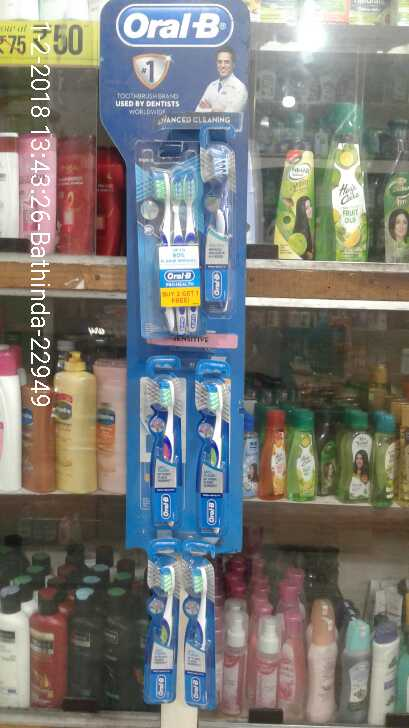oralb: (146, 149, 201, 335), (205, 144, 236, 320), (200, 376, 233, 538), (144, 559, 179, 711), (151, 376, 185, 523), (185, 566, 215, 703)
